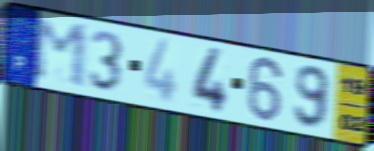3: (87, 30, 126, 95)
4: (190, 44, 230, 116), (143, 36, 183, 106)
6: (246, 55, 284, 123)
9: (293, 64, 332, 131)
M: (31, 17, 89, 92)
